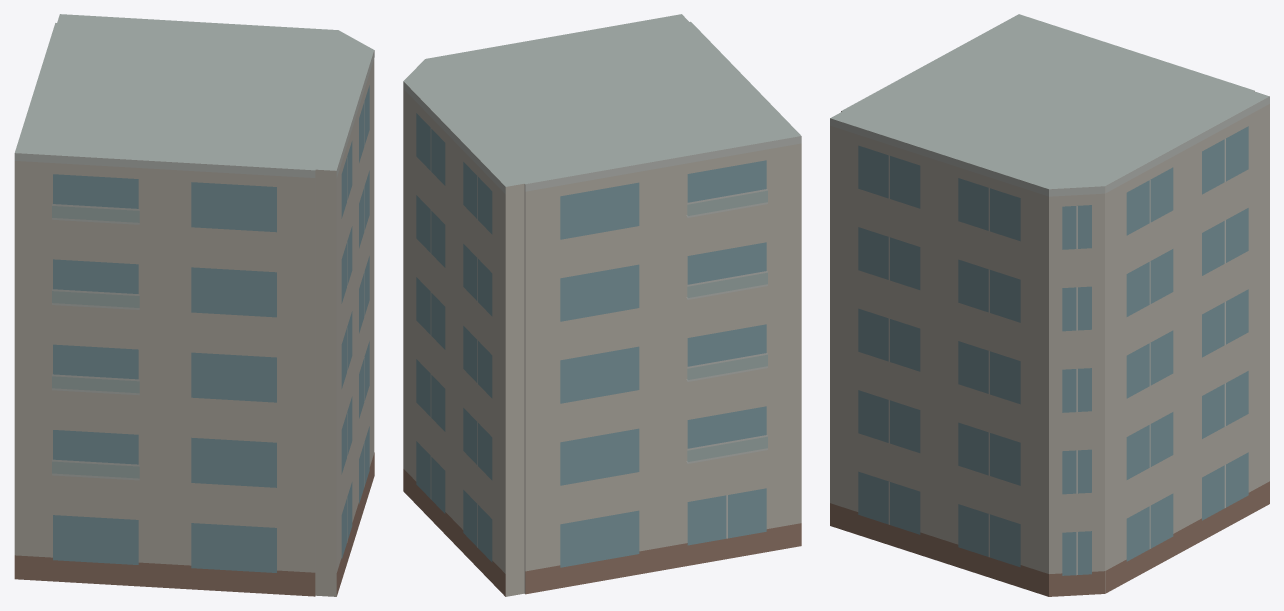
File: survey-upis-32992594.glb
3 views of the same model, side by side, from view 1: azimuth 30°, elevation 25°; view 2: azimuth 150°, elevation 25°; view 3: azimuth 270°, elevation 25° (orthographic). The views are drawn at different scales.
Parts seen in each view (by area): view 1: survey-upis-32992594.tmp; view 2: survey-upis-32992594.tmp; view 3: survey-upis-32992594.tmp.
Part boxes in pixels (x1,y1,x2,y2): survey-upis-32992594.tmp: [14, 14, 374, 596]; survey-upis-32992594.tmp: [403, 14, 801, 596]; survey-upis-32992594.tmp: [830, 14, 1269, 596].
Size of the model in its own units: 12.37 by 13.4 by 13.11.
